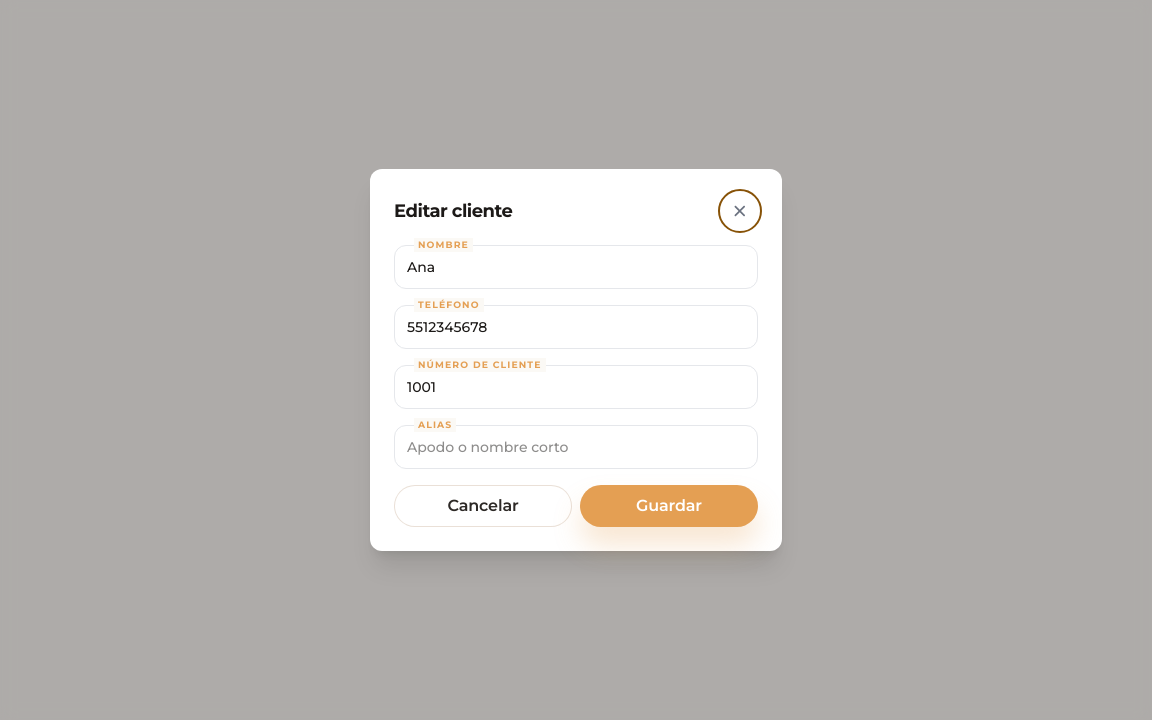
Test: EditClientModal › validates phone before submit
Replace the text in the field labelled "Teléfono" with "55123" at (576, 327), box x1=394 y1=305 x2=758 y2=349
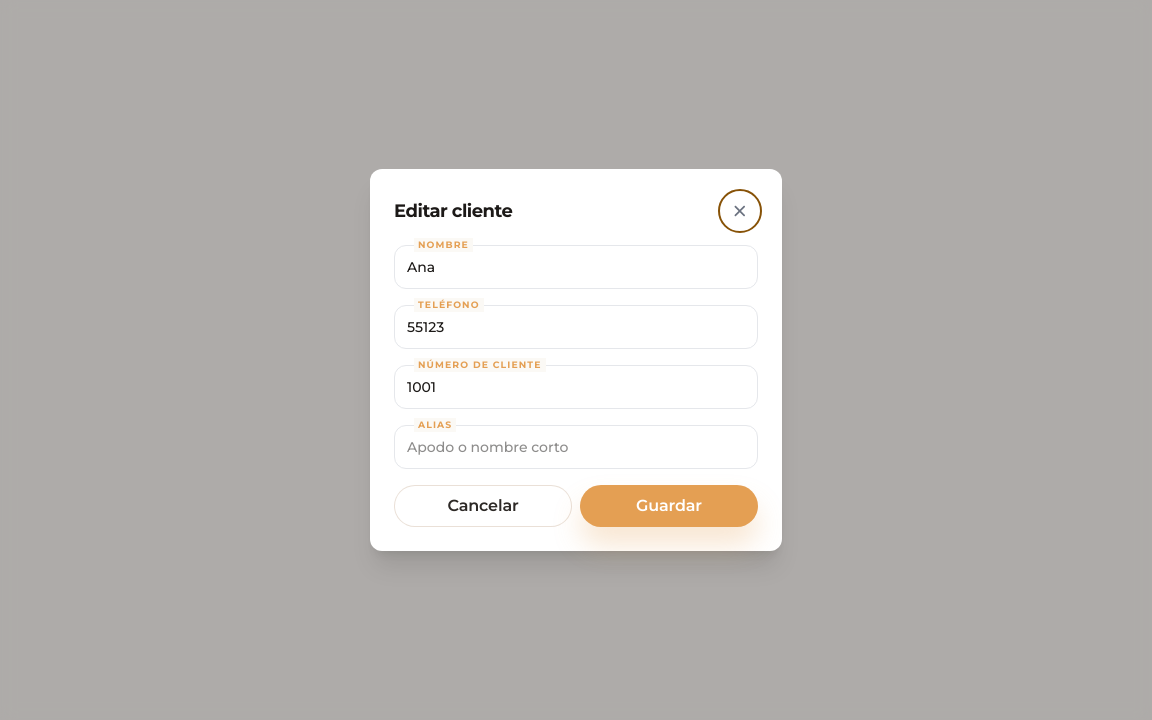
Click the button "Guardar".
click(669, 506)  # box x1=580 y1=485 x2=758 y2=527
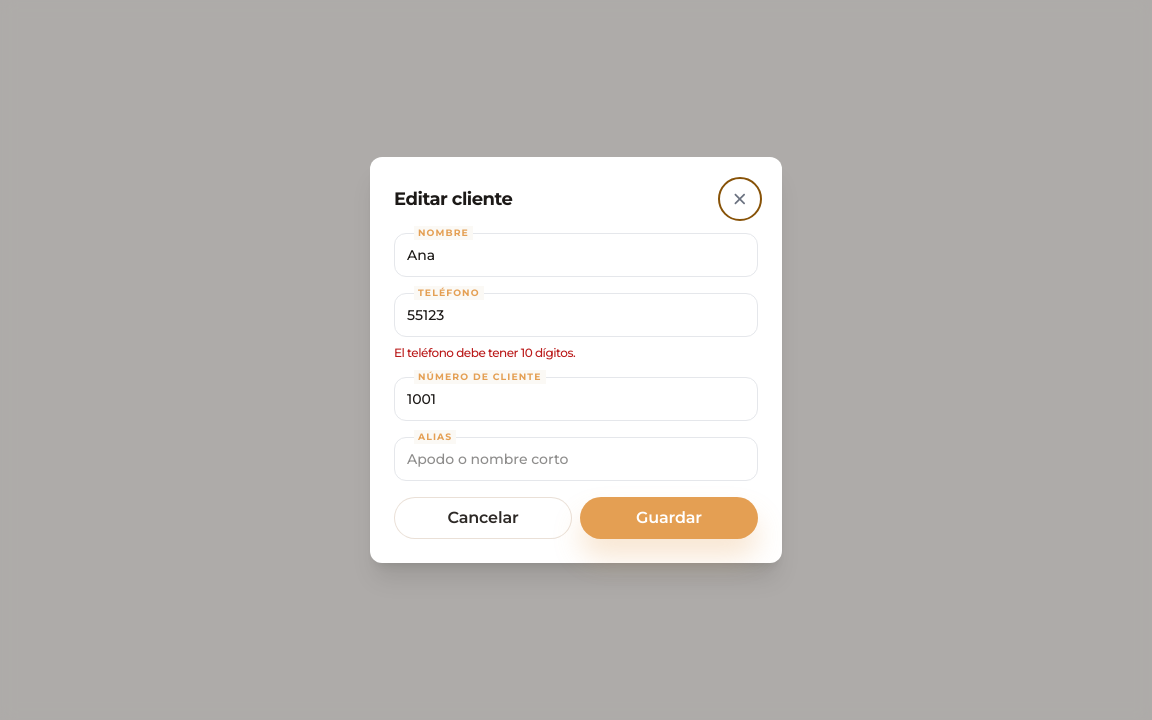
expect the text "El teléfono debe tener 10 dígitos." is shown: met, box x1=394 y1=345 x2=575 y2=360
